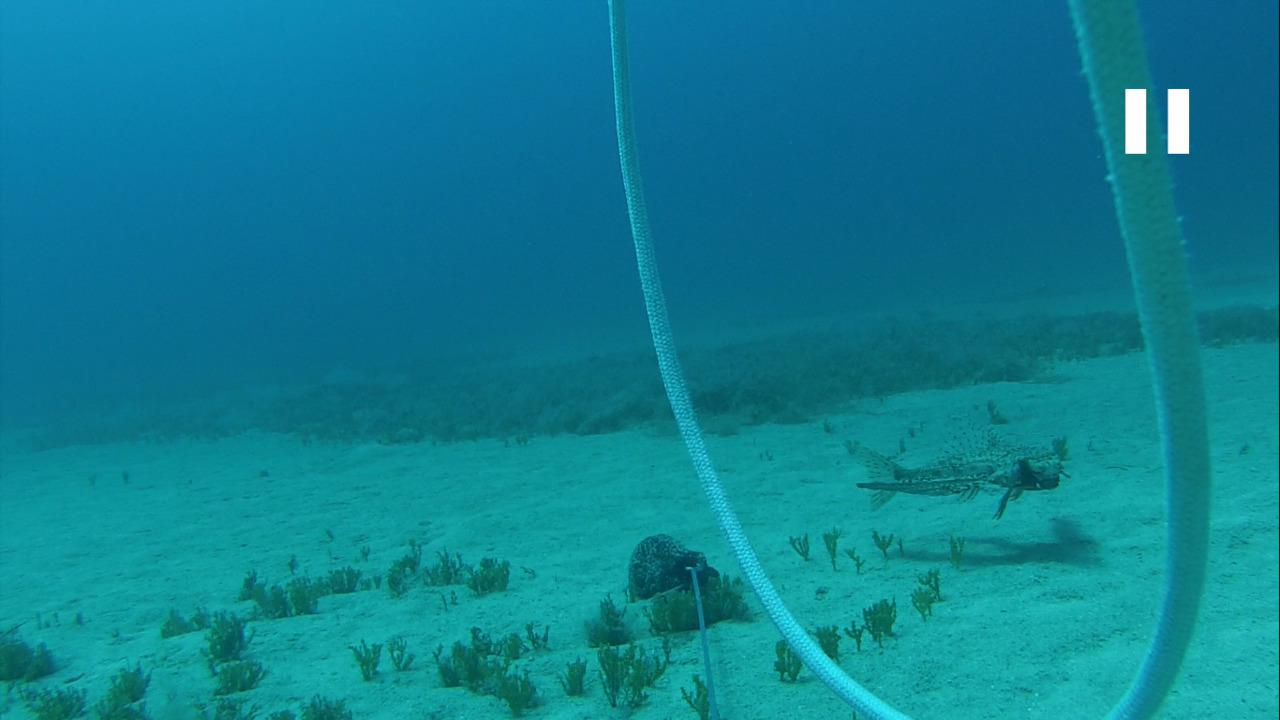dactylopterus: (836, 434, 1077, 521)
